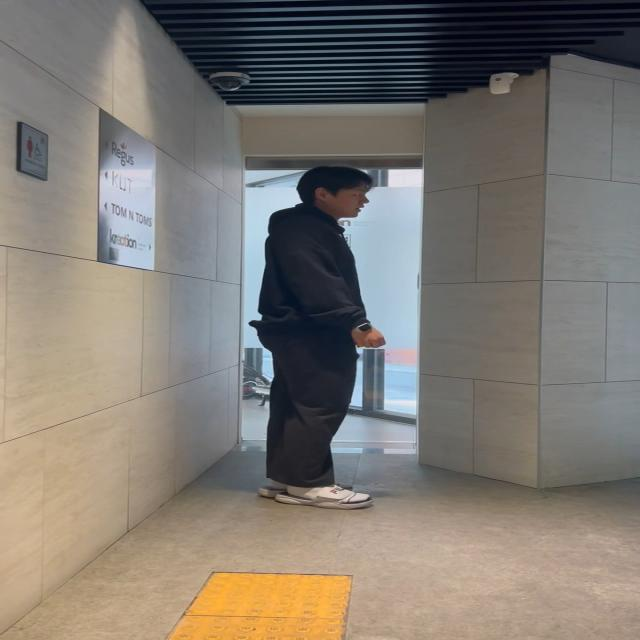leg: (270, 352, 382, 509)
